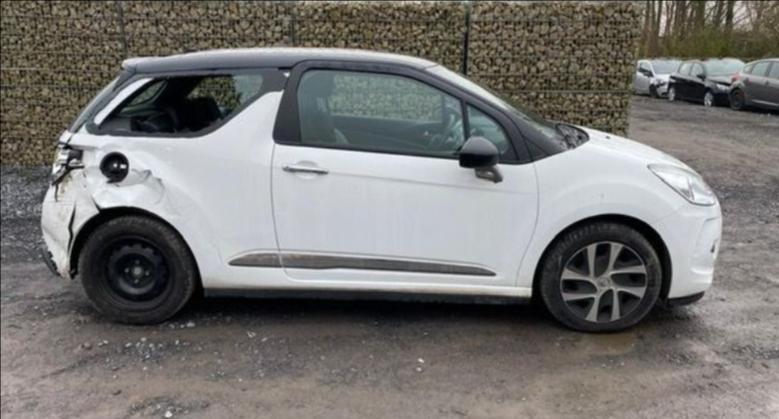Broken part: (75, 67, 291, 137), (40, 167, 101, 279), (50, 141, 84, 186)
Dent: (82, 143, 222, 282)
Missing part: (93, 235, 171, 311)
Paint chip: (129, 168, 165, 204)
